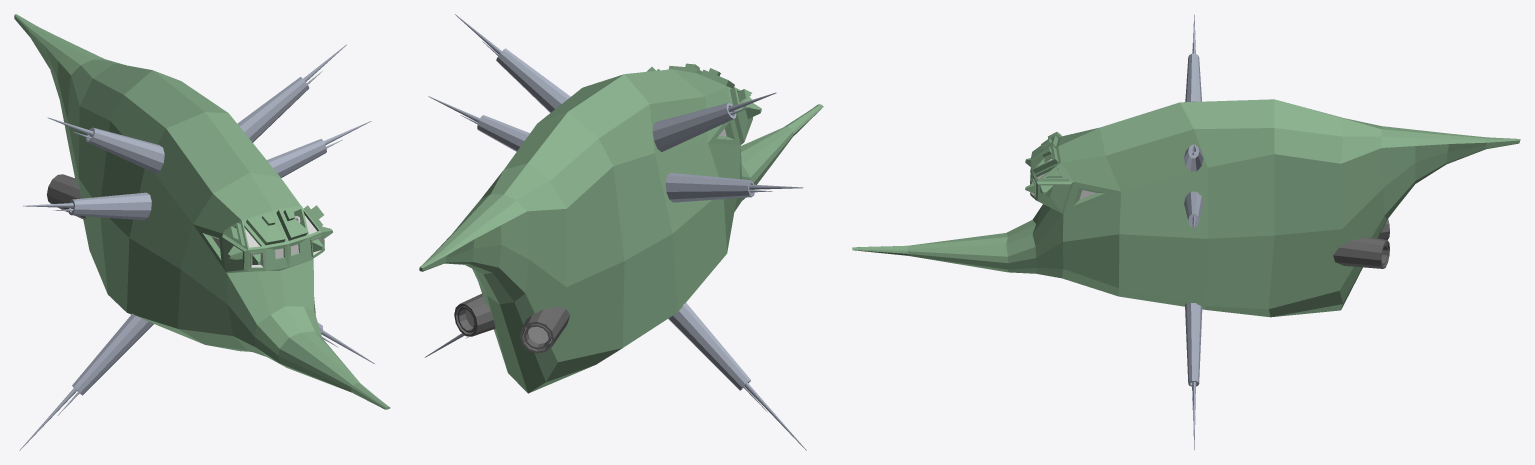
The model's file is Juggernaut(Pat)-4F.fbx.
The picture shows the model from 3 angles, left to right: view 1: azimuth 30°, elevation 25°; view 2: azimuth 150°, elevation 25°; view 3: azimuth 270°, elevation 25°; orthographic projection. The views are drawn at different scales.
Visible parts, largest first — view 1: Body, Spires, Engines; view 2: Body, Spires, Engines; view 3: Body, Spires, Engines.
Boxes of the visible parts, left/top/right/bottom form: Body: left=14, top=14, right=390, bottom=409; Spires: left=19, top=44, right=374, bottom=450; Engines: left=47, top=174, right=85, bottom=219; Body: left=419, top=63, right=823, bottom=393; Spires: left=425, top=14, right=806, bottom=450; Engines: left=454, top=293, right=570, bottom=353; Body: left=852, top=99, right=1520, bottom=317; Spires: left=1184, top=14, right=1203, bottom=450; Engines: left=1333, top=219, right=1389, bottom=268.
Bounding box in the file's own units: 332 × 291 × 602.
